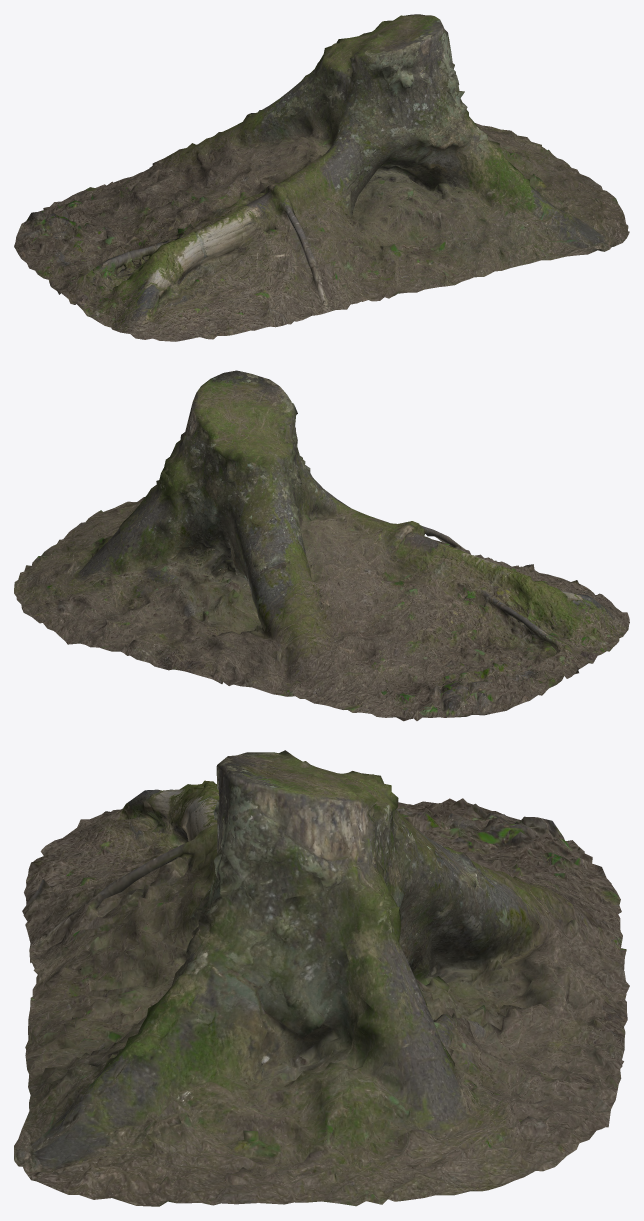
File: PX_Stump_06_LOD1.fbx
3 renders of one model, top to bottom at view 1: azimuth 30°, elevation 25°; view 2: azimuth 150°, elevation 25°; view 3: azimuth 270°, elevation 25°, orthographic. The views are drawn at different scales.
Parts seen in each view (by area): view 1: PX_Stump_06_LOD1; view 2: PX_Stump_06_LOD1; view 3: PX_Stump_06_LOD1.
Boxes of the visible parts, bbox=[...] form: PX_Stump_06_LOD1: bbox=[14, 14, 629, 341]; PX_Stump_06_LOD1: bbox=[14, 370, 629, 721]; PX_Stump_06_LOD1: bbox=[14, 750, 629, 1206].
Bounding box in the file's own units: 249 × 90.42 × 160.
